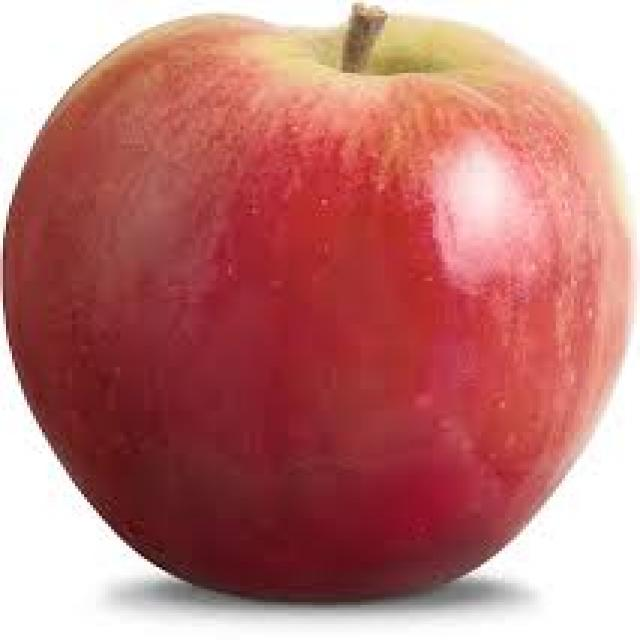organic waste: (0, 3, 634, 602)
